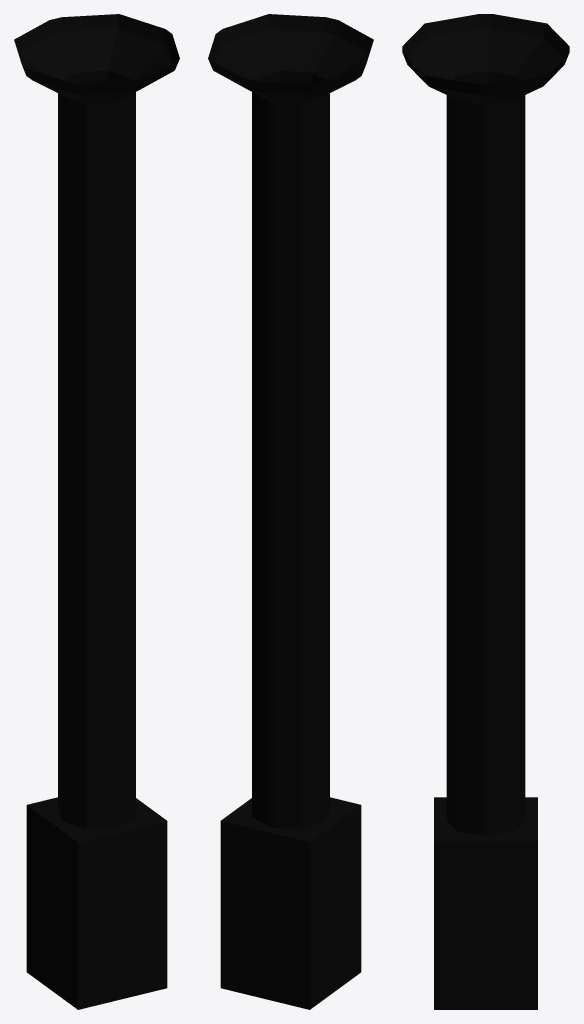
Rendered from lamp.fbx.
The picture shows the model from 3 angles, left to right: view 1: azimuth 30°, elevation 25°; view 2: azimuth 150°, elevation 25°; view 3: azimuth 270°, elevation 25°; orthographic projection.
Parts seen in each view (by area): view 1: LampPost; view 2: LampPost; view 3: LampPost.
Boxes of the visible parts, <box> form: LampPost: <box>14,14,179,1009</box>; LampPost: <box>208,14,373,1009</box>; LampPost: <box>402,14,569,1009</box>.
Size of the model in its own units: 80.92 by 501 by 80.92.
